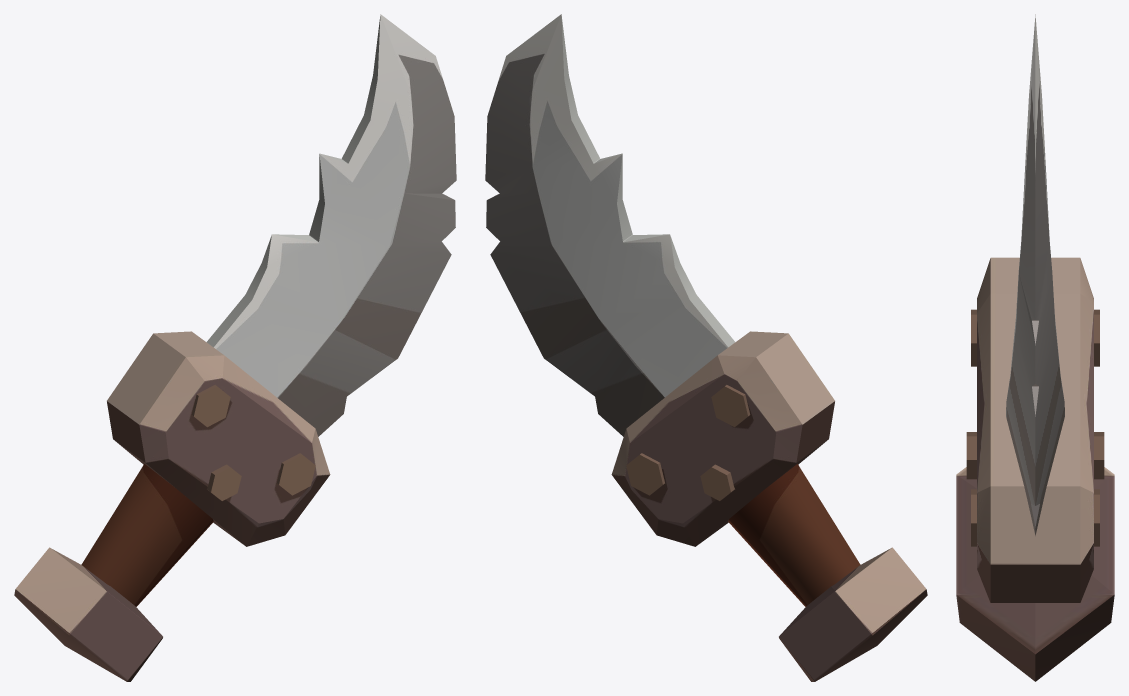
Rendered from Bronze_02.FBX.
The picture shows the model from 3 angles, left to right: view 1: azimuth 30°, elevation 25°; view 2: azimuth 150°, elevation 25°; view 3: azimuth 270°, elevation 25°; orthographic projection. The views are drawn at different scales.
Parts seen in each view (by area): view 1: bronze_02; view 2: bronze_02; view 3: bronze_02.
Part boxes in pixels (x1,y1,x2,y2): bronze_02: [14, 14, 456, 681]; bronze_02: [485, 14, 927, 681]; bronze_02: [956, 14, 1114, 681].
Size of the model in its own units: 60.3 by 79.24 by 13.62.
